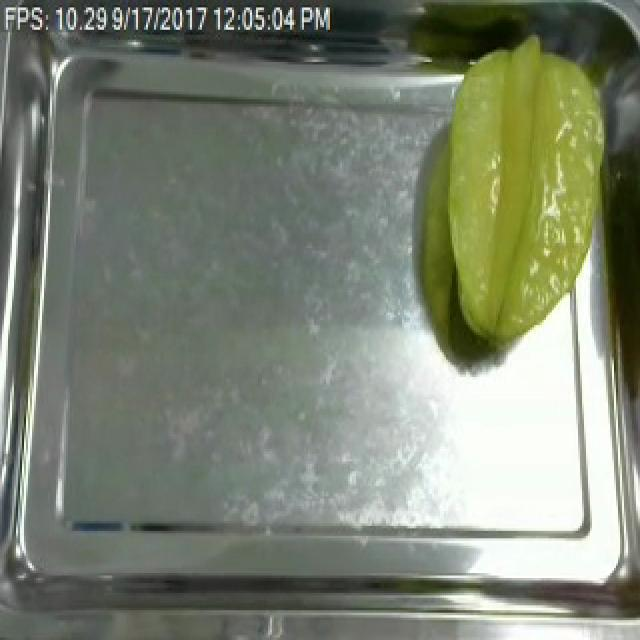fruit: (432, 32, 618, 360)
